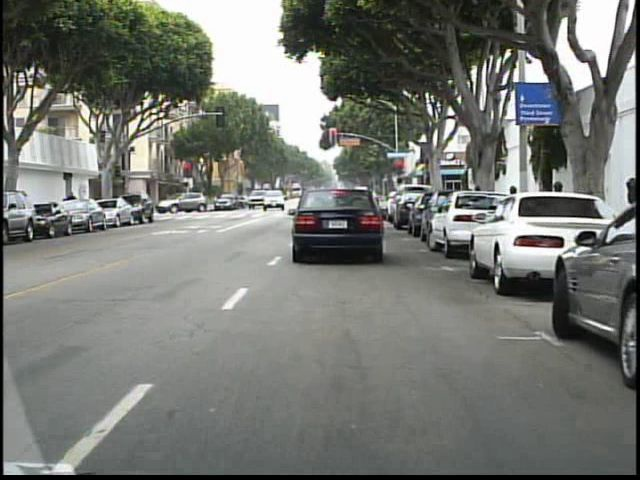person: (64, 186, 82, 224), (164, 190, 179, 217)
